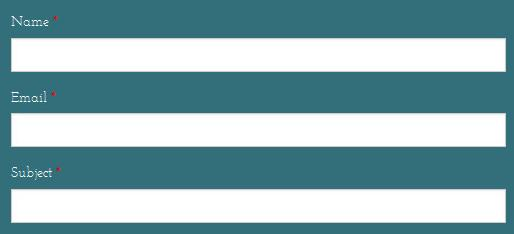field: (10, 36, 508, 74), (10, 187, 508, 224), (8, 112, 508, 148)
field_with_label: (8, 13, 510, 74), (9, 164, 509, 225), (8, 91, 509, 150)
